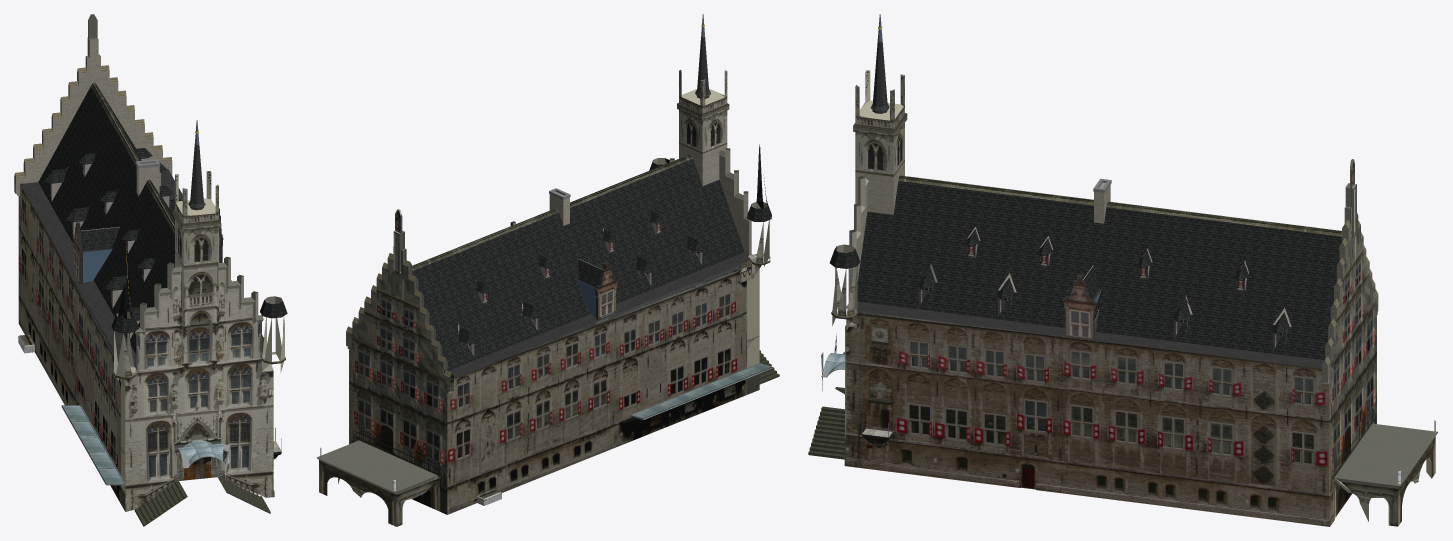
File: stadhuis.glb
3 renders of one model, left to right at view 1: azimuth 30°, elevation 25°; view 2: azimuth 150°, elevation 25°; view 3: azimuth 270°, elevation 25°, orthographic. The views are drawn at different scales.
Bounding box in the file's own units: 23.65 × 33.09 × 45.11.
Materials: 28 (25 with a texture image).
